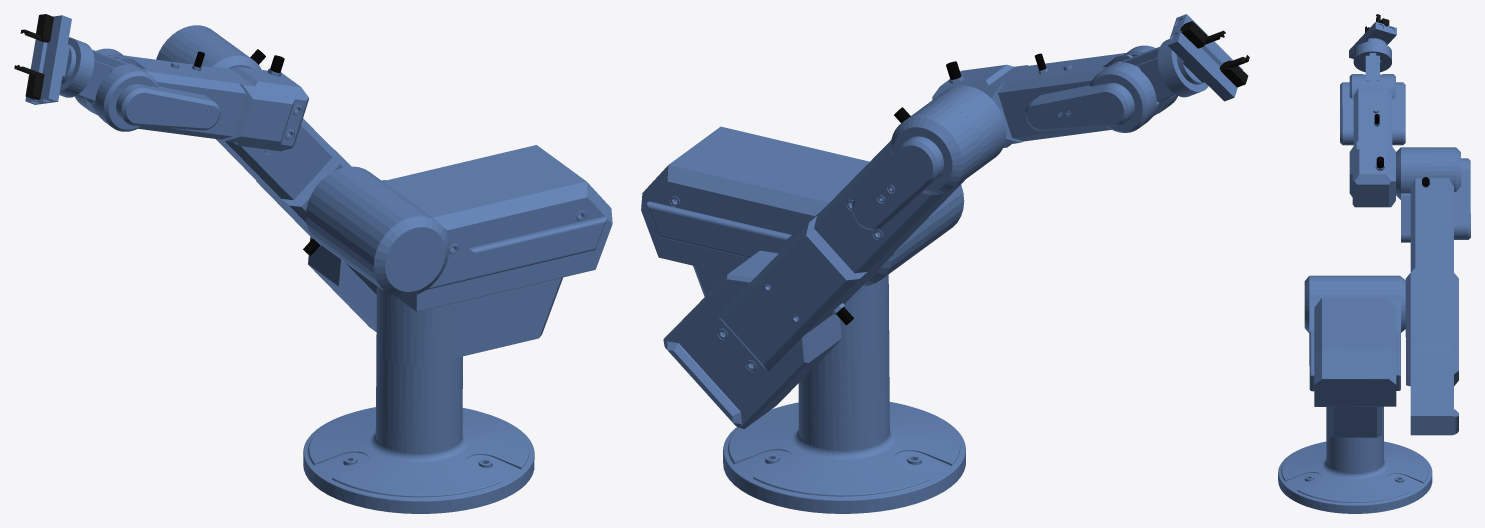
The model's file is Scorbot 9 CIM.fbx.
3 renders of one model, left to right at view 1: azimuth 30°, elevation 25°; view 2: azimuth 150°, elevation 25°; view 3: azimuth 270°, elevation 25°, orthographic. The views are drawn at different scales.
Visible parts, largest first — view 1: Hombro, Base, Brazo 2, Brazo 1, Muñeca, Antebrazo; view 2: Brazo 1, Hombro, Base, Brazo 2, Muñeca, Antebrazo; view 3: Brazo 1, Hombro, Base, Brazo 2, Antebrazo, Muñeca.
Boxes of the visible parts, box(x1,y1,x2,y2) form: Hombro: box(305, 145, 612, 365); Base: box(303, 348, 534, 513); Brazo 2: box(75, 48, 308, 151); Brazo 1: box(156, 25, 385, 331); Muñeca: box(25, 15, 75, 104); Antebrazo: box(59, 37, 136, 117); Brazo 1: box(663, 85, 1006, 429); Hombro: box(641, 126, 964, 357); Base: box(723, 340, 965, 513); Brazo 2: box(932, 45, 1177, 147); Muñeca: box(1167, 14, 1243, 101); Antebrazo: box(1112, 39, 1208, 117); Brazo 1: box(1396, 147, 1470, 435); Hombro: box(1304, 275, 1405, 437); Base: box(1278, 406, 1432, 513); Brazo 2: box(1340, 74, 1405, 207); Antebrazo: box(1353, 41, 1391, 89); Muñeca: box(1349, 22, 1396, 58).
Bounding box in the file's own units: 92.73 × 82.44 × 41.28.
